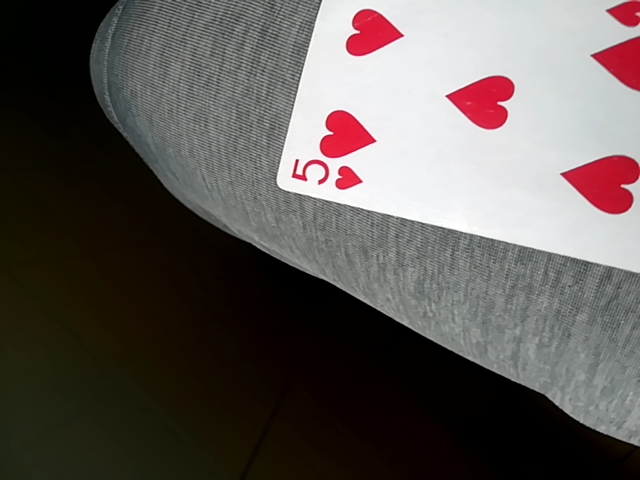hx 5: (274, 0, 640, 282)
